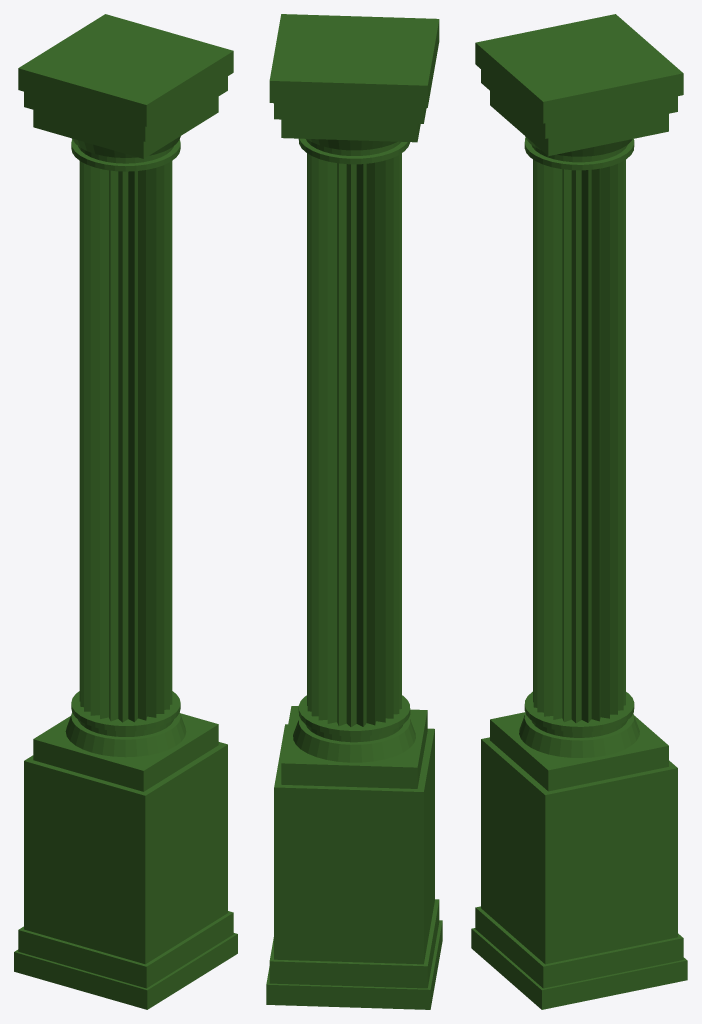
Rendered from Pilar verde.fbx.
3 renders of one model, left to right at view 1: azimuth 30°, elevation 25°; view 2: azimuth 150°, elevation 25°; view 3: azimuth 270°, elevation 25°, orthographic. The views are drawn at different scales.
Visible parts, largest first — view 1: Cube.003; view 2: Cube.003; view 3: Cube.003.
Boxes of the visible parts, box(x1,y1,x2,y2) form: Cube.003: box(14, 14, 237, 1009); Cube.003: box(266, 14, 442, 1009); Cube.003: box(471, 14, 687, 1009).
Size of the model in its own units: 128 by 592 by 128.
